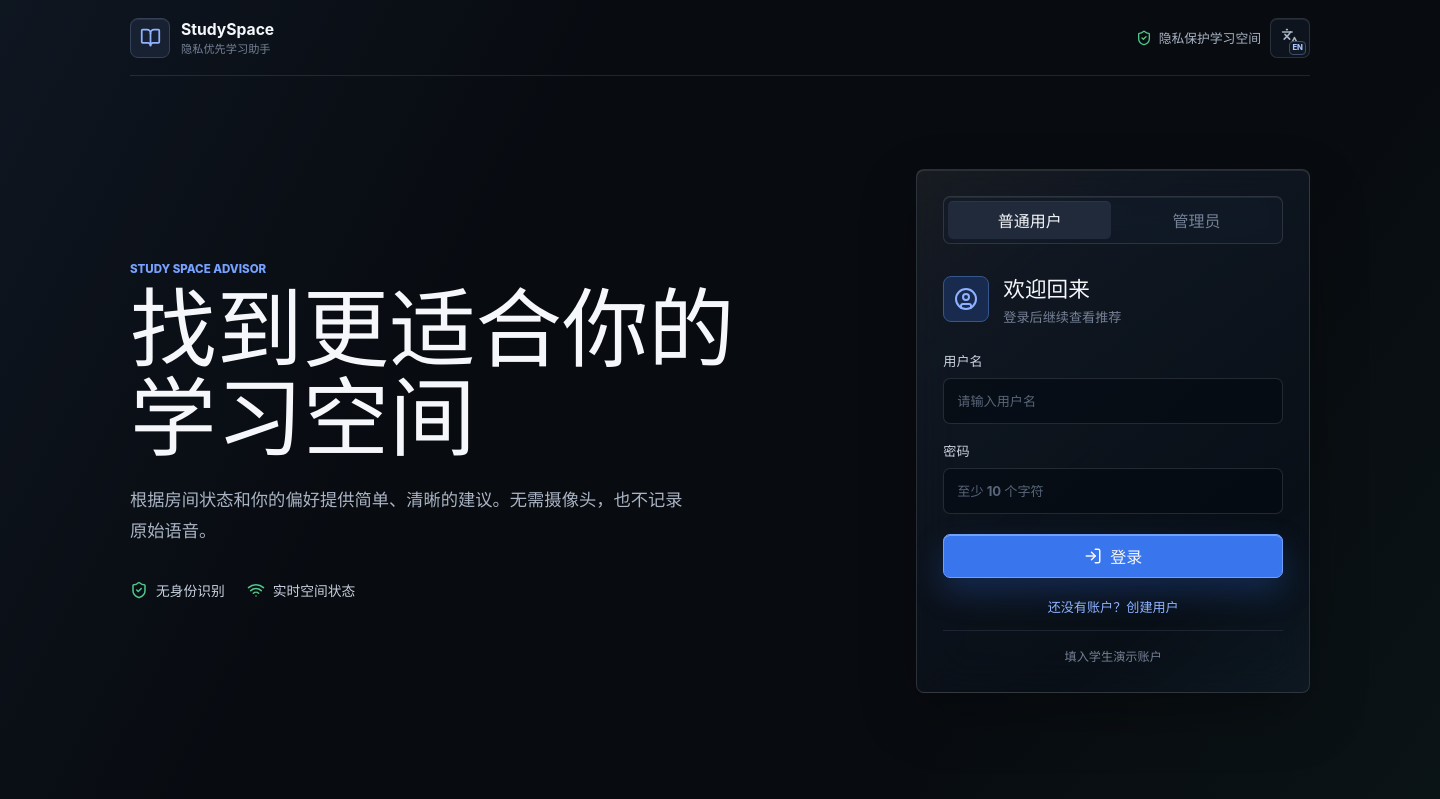
Test: App › translates quantitative administrator monitoring into English
Click the button with aria-label "切换为英文" at (1290, 38), box [1270,18,1310,58]
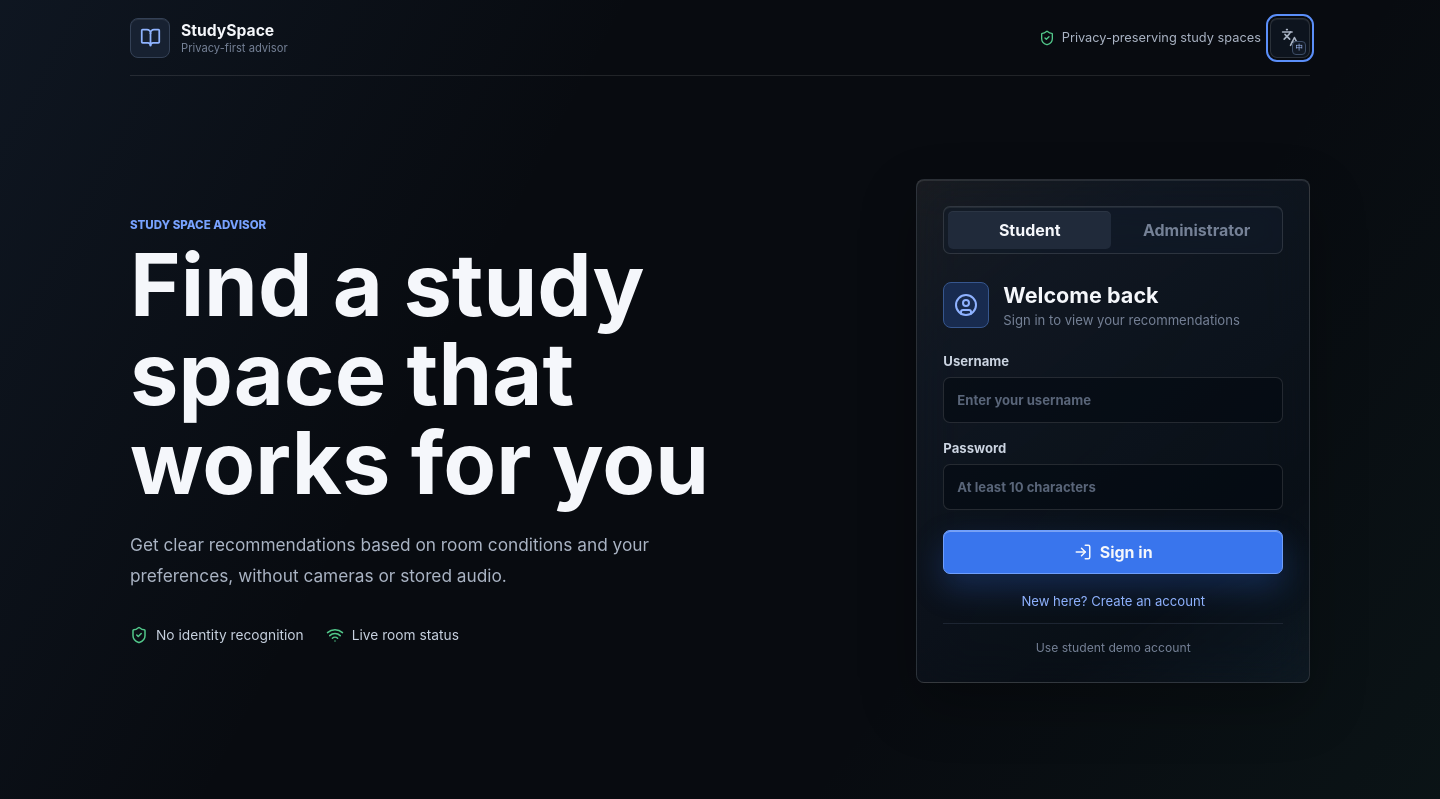
Click the button "Administrator" at (1197, 230), box [1115,211,1278,249]
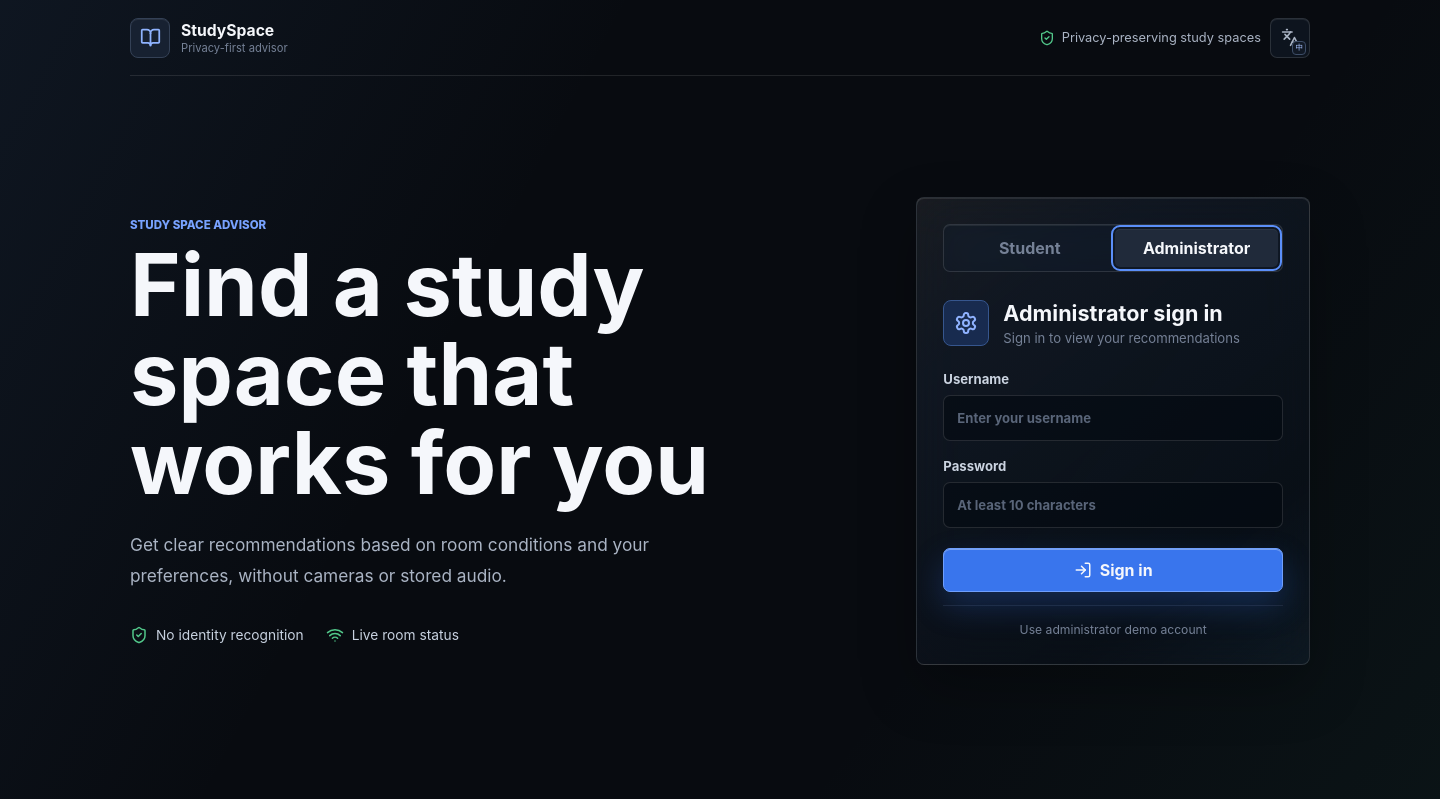
Click the button "Use administrator demo account" at (1113, 622), box [943,605,1283,638]
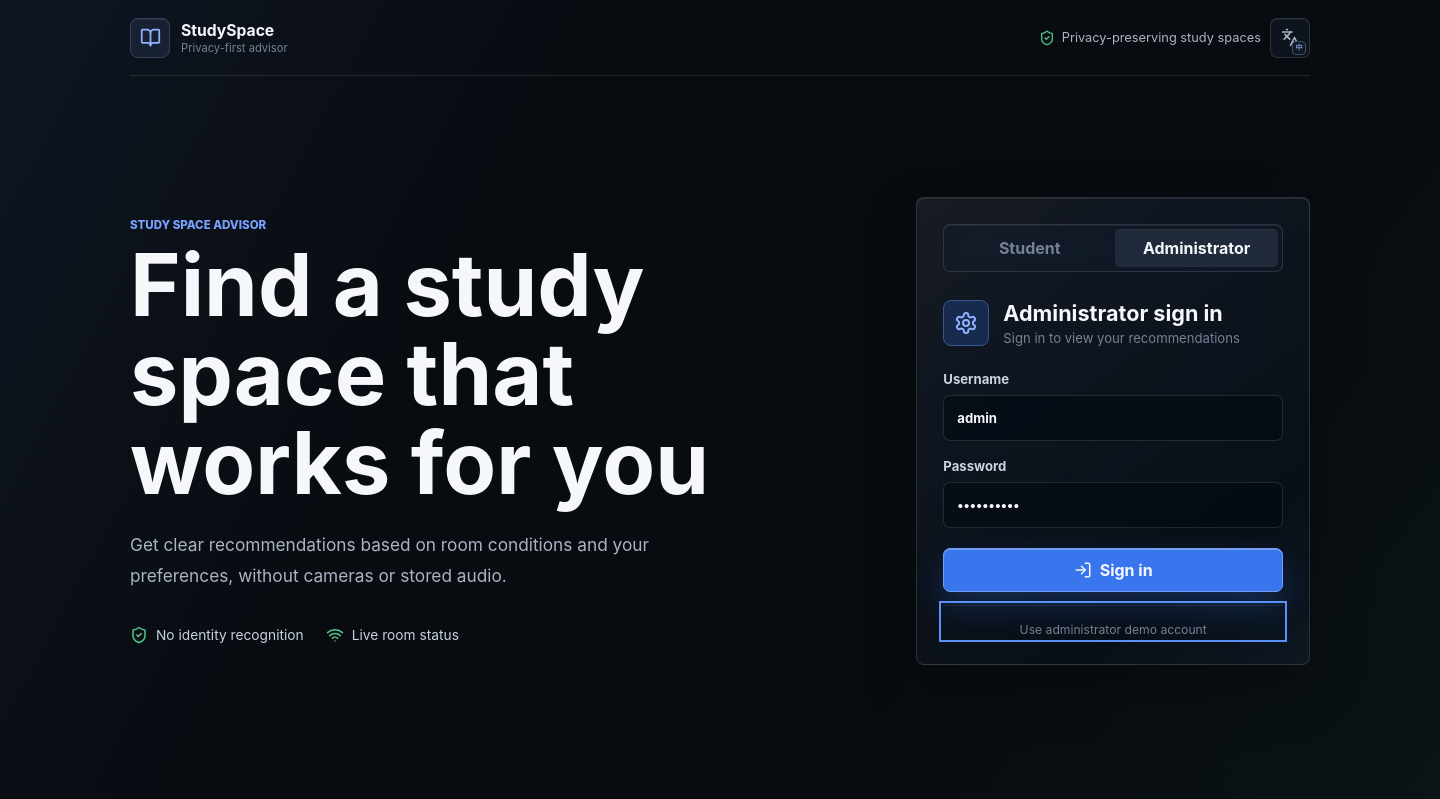
Click the button "Sign in" at (1113, 570), box [943,548,1283,592]
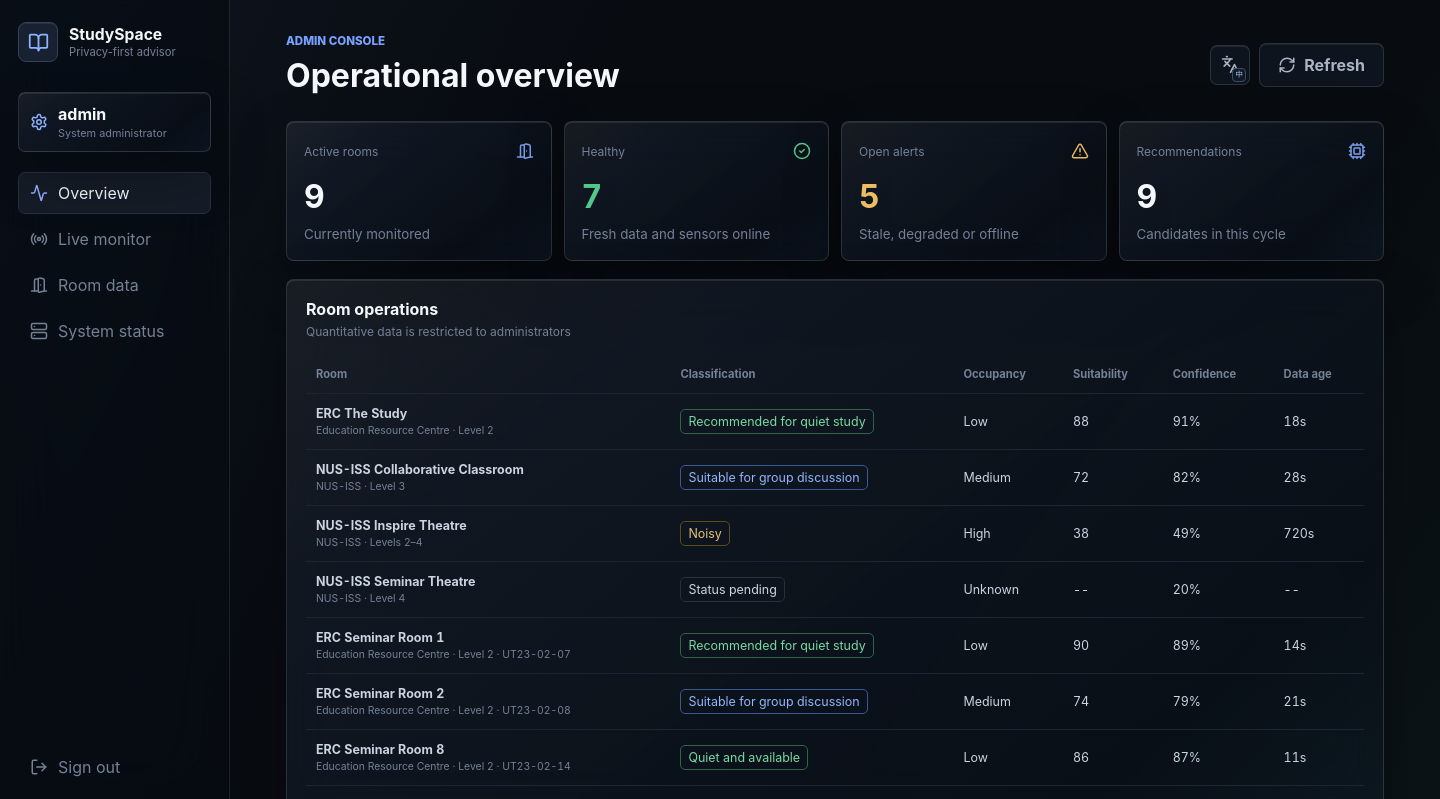
Check: the heading "Operational overview" is shown, box [286,56,620,95]
Check: the text "Quantitative data is restricted to administrators" is shown, box [306,324,571,339]
Click the button "Live monitor" at (114, 239), box [18,218,211,260]
(page scrolled)
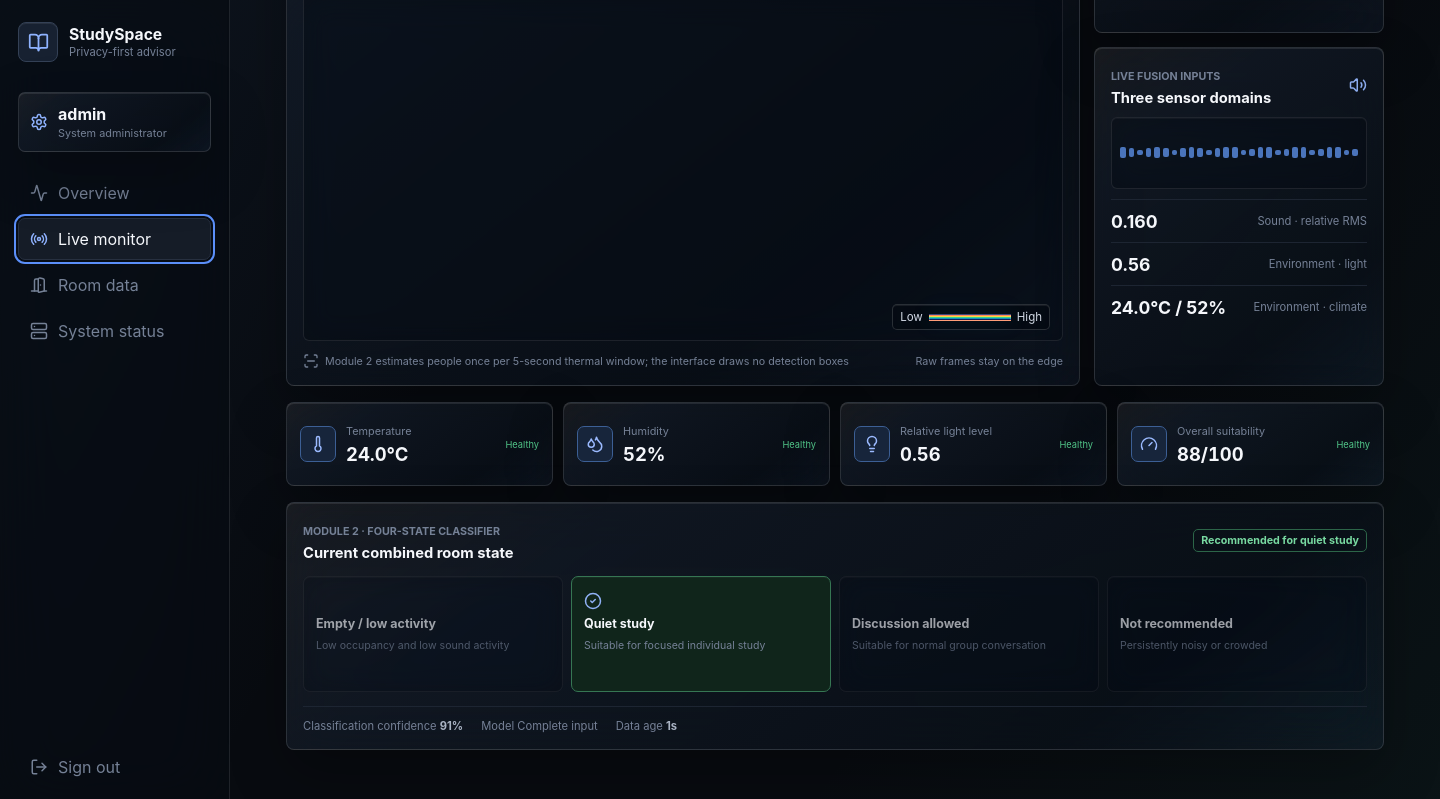
Check: the text "Discussion allowed" is shown, box [852,616,969,631]
